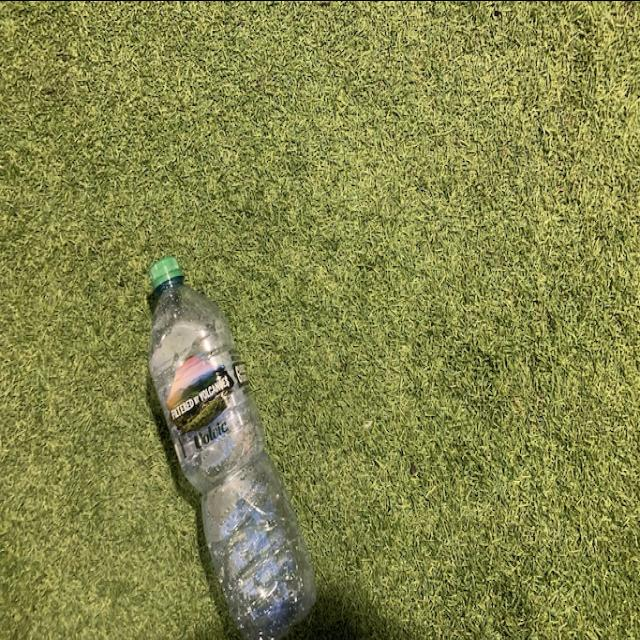PET: (138, 251, 320, 639)
